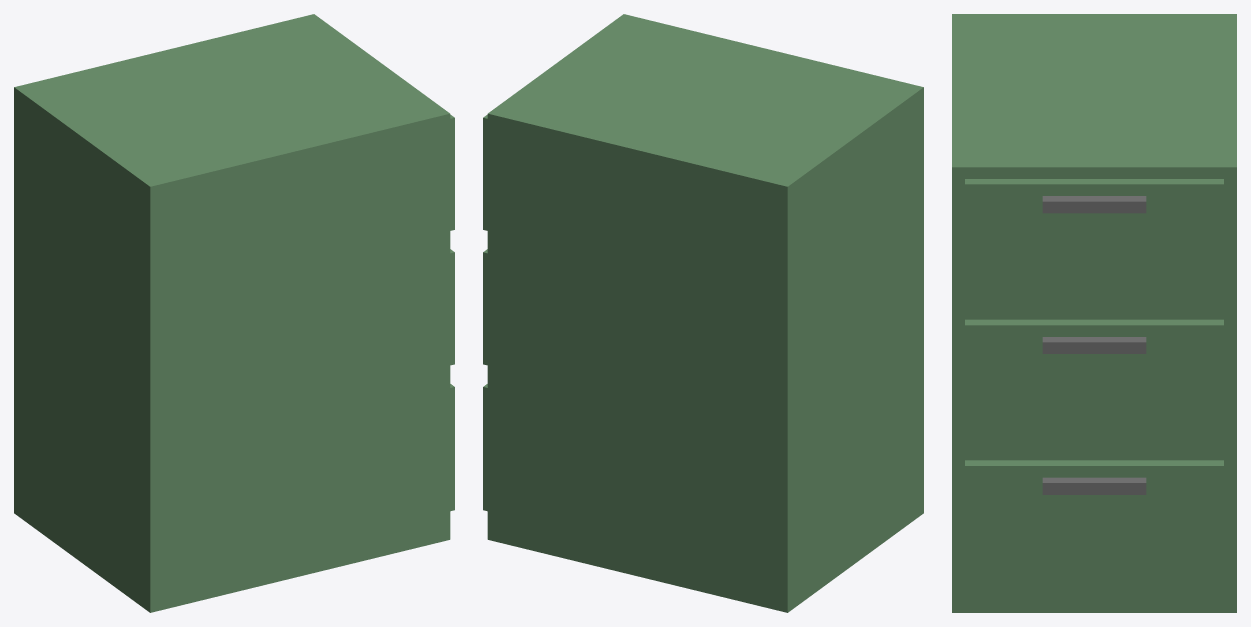
Rendered from file-cabinet.obj.
3 views of the same model, side by side, from view 1: azimuth 30°, elevation 25°; view 2: azimuth 150°, elevation 25°; view 3: azimuth 270°, elevation 25° (orthographic). The views are drawn at different scales.
Bounding box in the file's own units: 3 × 3.8 × 2.2.
Materials: 1 (1 with a texture image).
